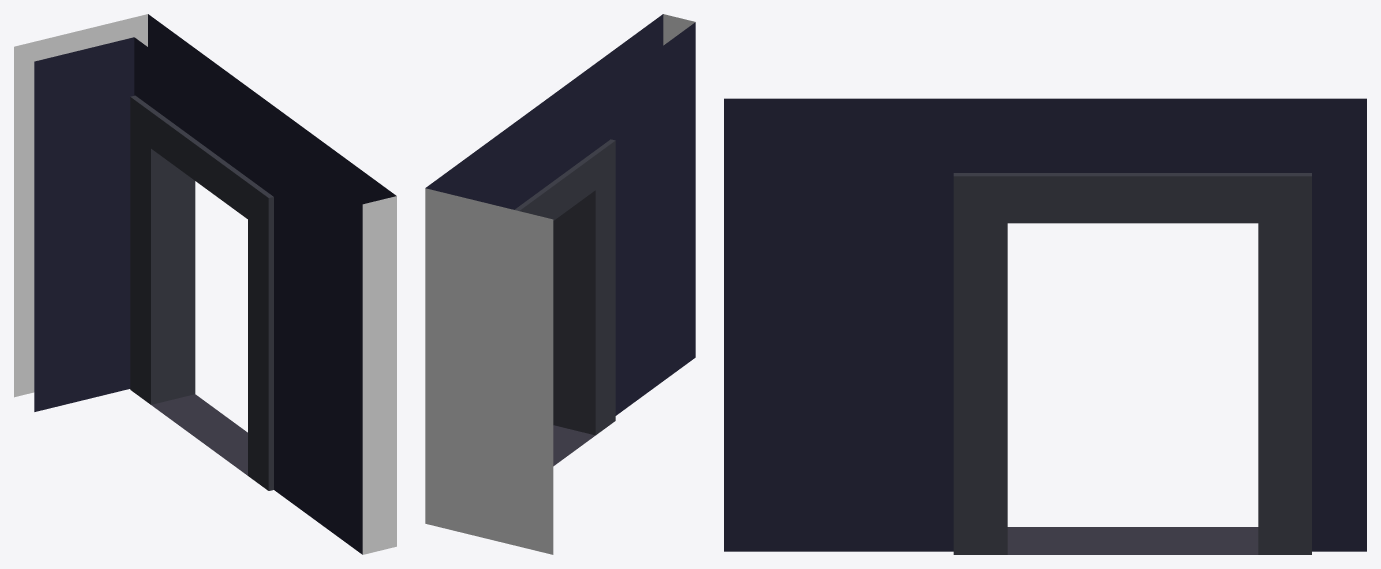
Rendered from 2.5U Door Wall 2 Sides.fbx.
3 renders of one model, left to right at view 1: azimuth 30°, elevation 25°; view 2: azimuth 150°, elevation 25°; view 3: azimuth 270°, elevation 25°, orthographic. The views are drawn at different scales.
Visible parts, largest first — view 1: 2.5U Door Wall 2 Sides; view 2: 2.5U Door Wall 2 Sides; view 3: 2.5U Door Wall 2 Sides.
Boxes of the visible parts, bbox=[...] form: 2.5U Door Wall 2 Sides: bbox=[14, 14, 396, 554]; 2.5U Door Wall 2 Sides: bbox=[425, 14, 695, 554]; 2.5U Door Wall 2 Sides: bbox=[724, 98, 1366, 554].
Bounding box in the file's own units: 258 × 622 × 799.
